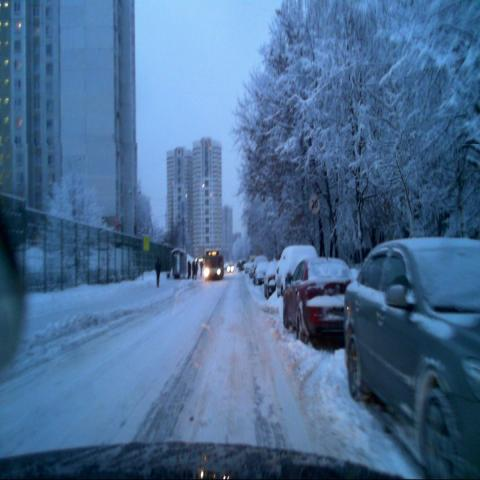3_25: (309, 193, 323, 215)
